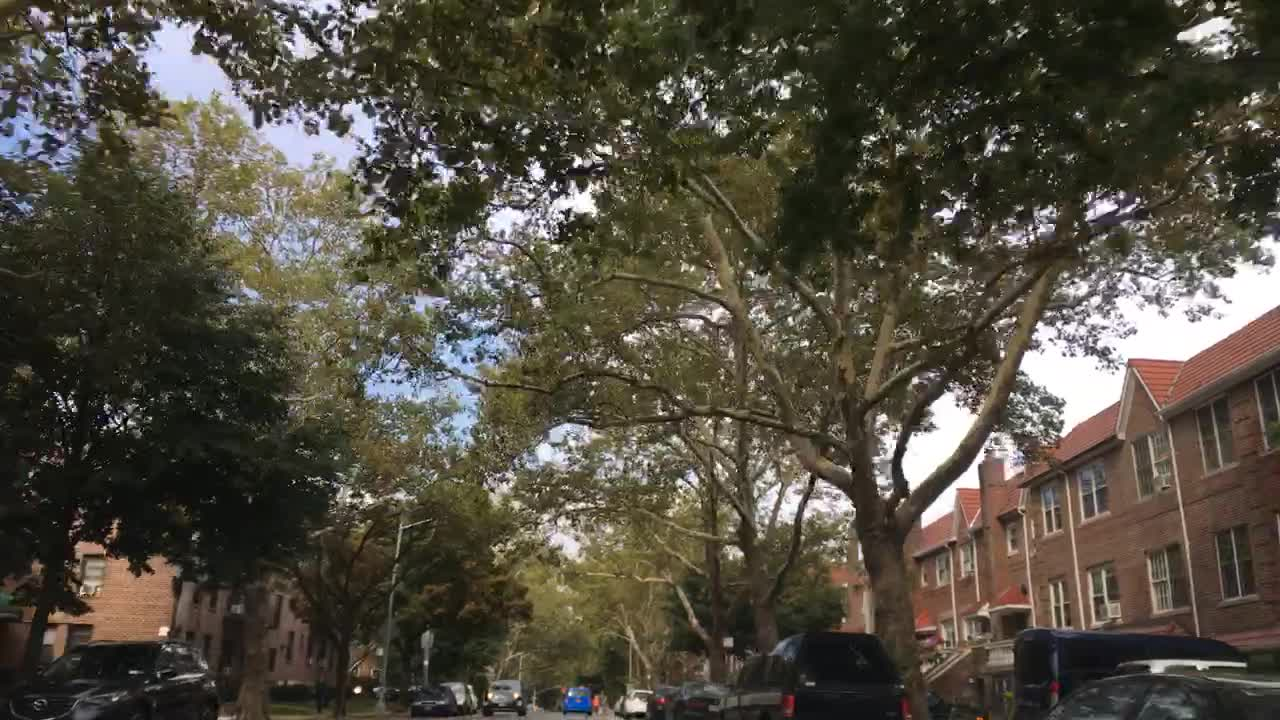car: (1012, 626, 1242, 718), (2, 631, 220, 717), (759, 630, 912, 718), (1043, 665, 1279, 717), (712, 655, 798, 718), (1109, 655, 1248, 675), (667, 679, 724, 717), (407, 683, 460, 717), (484, 679, 528, 717), (439, 679, 472, 717), (644, 685, 682, 717), (267, 679, 314, 704), (561, 683, 593, 717), (621, 688, 655, 717), (462, 681, 480, 713), (370, 683, 401, 700), (611, 688, 627, 717)
person: (595, 687, 610, 717), (590, 691, 601, 717)
traffic sign: (420, 629, 433, 649), (721, 633, 736, 648)
